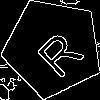R: (28, 23, 85, 81)
